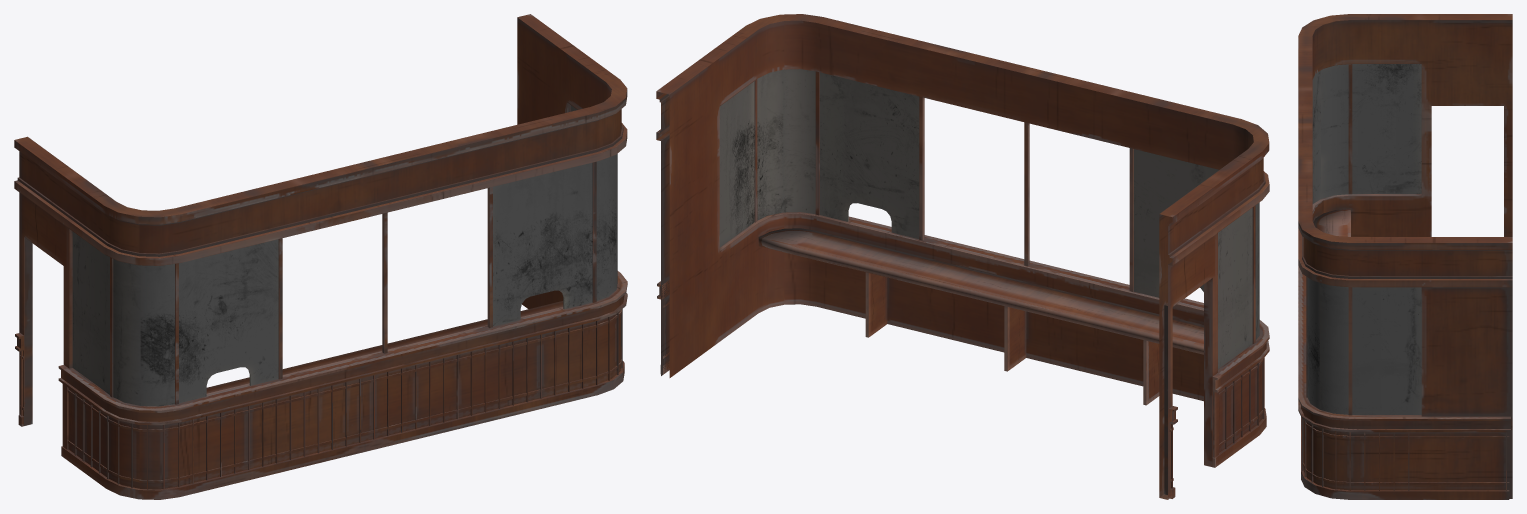
File: Loket.fbx
3 renders of one model, left to right at view 1: azimuth 30°, elevation 25°; view 2: azimuth 150°, elevation 25°; view 3: azimuth 270°, elevation 25°, orthographic. The views are drawn at different scales.
Parts seen in each view (by area): view 1: Locket_WoodenFrame, Locket_Glass_Main, Locket_Table; view 2: Locket_WoodenFrame, Locket_Glass_Main, Locket_Table; view 3: Locket_WoodenFrame, Locket_Glass_Main, Locket_Table.
Part boxes in pixels (left/top/right/bottom): Locket_WoodenFrame: left=14, top=14, right=627, bottom=499; Locket_Glass_Main: left=72, top=105, right=617, bottom=406; Locket_Table: left=206, top=301, right=563, bottom=393; Locket_WoodenFrame: left=656, top=14, right=1269, bottom=499; Locket_Glass_Main: left=719, top=69, right=1259, bottom=368; Locket_Table: left=758, top=228, right=1203, bottom=405; Locket_WoodenFrame: left=1298, top=14, right=1512, bottom=499; Locket_Glass_Main: left=1307, top=64, right=1421, bottom=414; Locket_Table: left=1313, top=208, right=1350, bottom=236.
Size of the model in its own units: 6.05 by 2.39 by 3.17.
Materials: 3 (3 with a texture image).
